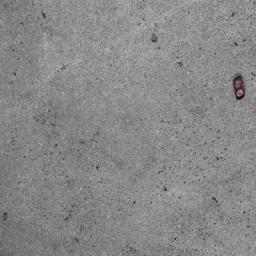FOD: (232, 72, 251, 102)
